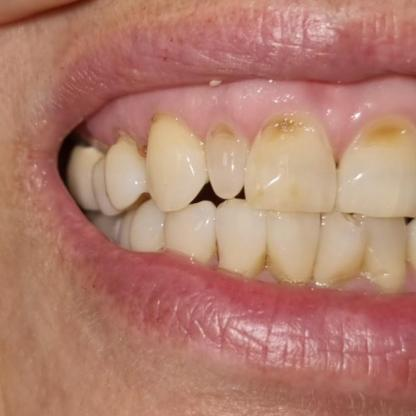Crowding: (316, 212, 408, 294)
